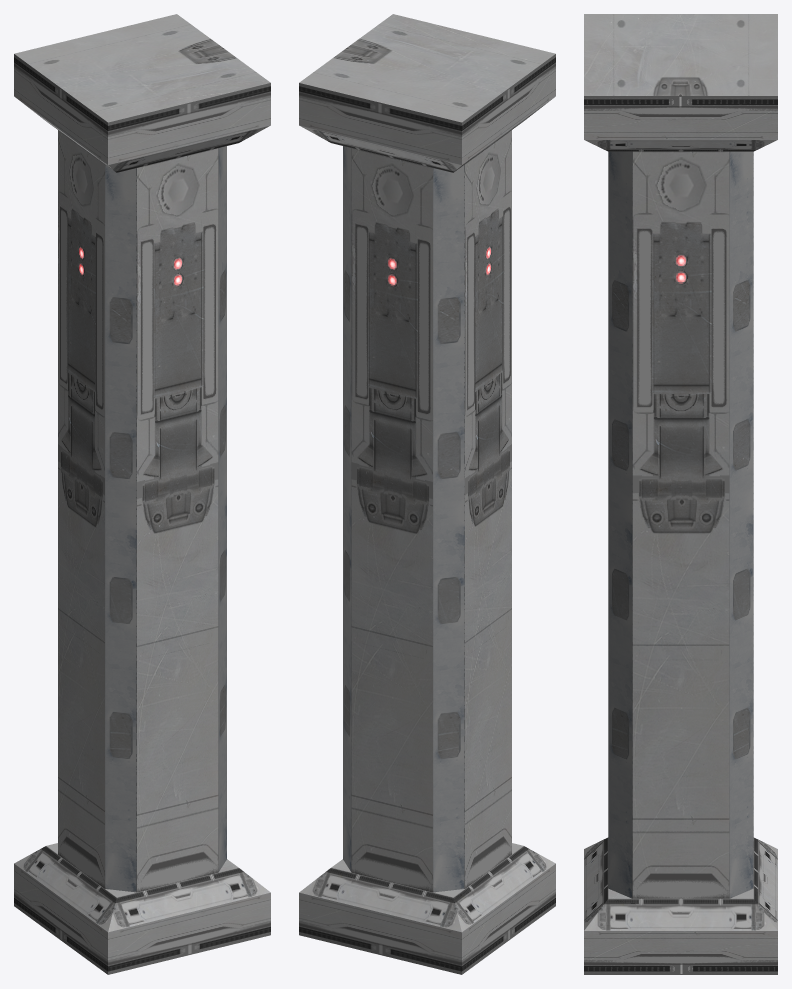
Rendered from SM_PillarsB_a.fbx.
The picture shows the model from 3 angles, left to right: view 1: azimuth 30°, elevation 25°; view 2: azimuth 150°, elevation 25°; view 3: azimuth 270°, elevation 25°; orthographic projection. The views are drawn at different scales.
Parts seen in each view (by area): view 1: SM_PillarsB_a_LOD0; view 2: SM_PillarsB_a_LOD0; view 3: SM_PillarsB_a_LOD0.
Boxes of the visible parts, bbox=[...] form: SM_PillarsB_a_LOD0: bbox=[14, 14, 270, 974]; SM_PillarsB_a_LOD0: bbox=[299, 14, 555, 974]; SM_PillarsB_a_LOD0: bbox=[584, 14, 777, 974].
Size of the model in its own units: 80 by 80 by 400.
Materials: 2 (2 with a texture image).
